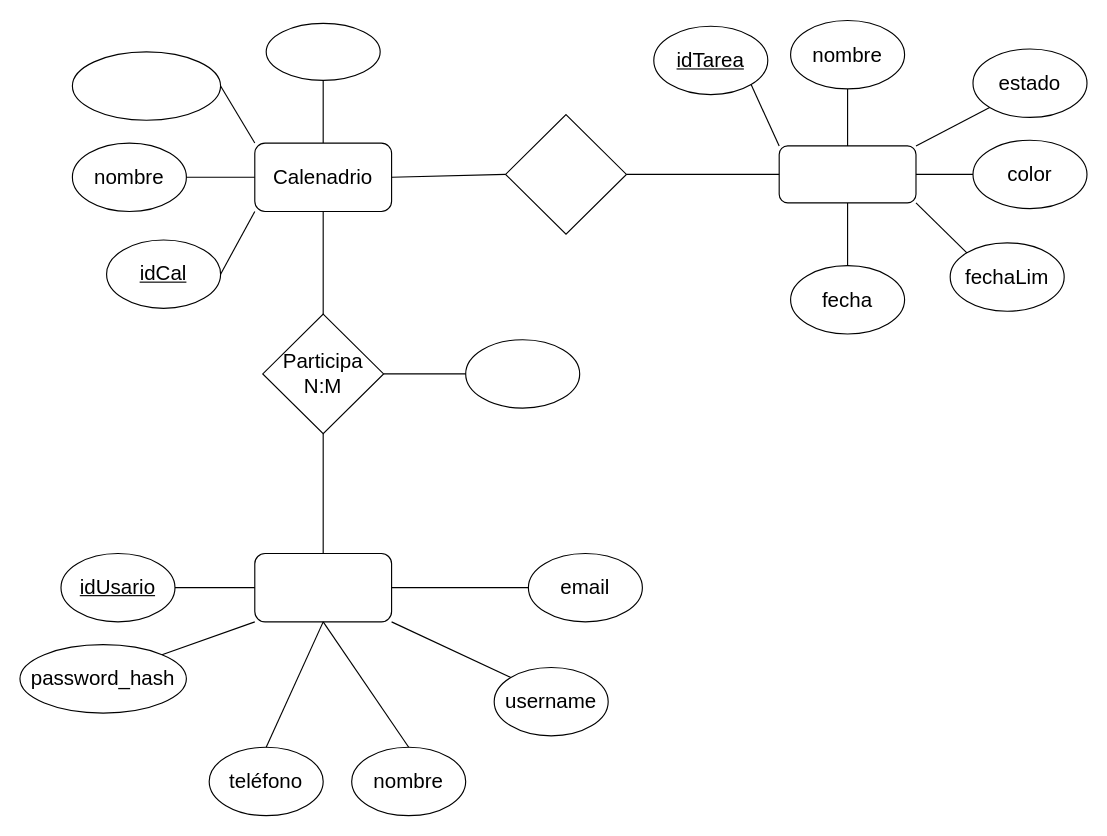
The diagram is 1107 pixels wide and 836 high, and some of its shapes have lost their labels. The shapes that lost their labels are listed below. From the top down, each one's centre as x and y in pixels, then its label:
At [322,51]: "codigo".
At [146,85]: "fechaCreacion".
At [565,173]: "Contiene 1:N".
At [847,174]: "Tarea".
At [522,373]: "rol".
At [323,587]: "Usuario".
